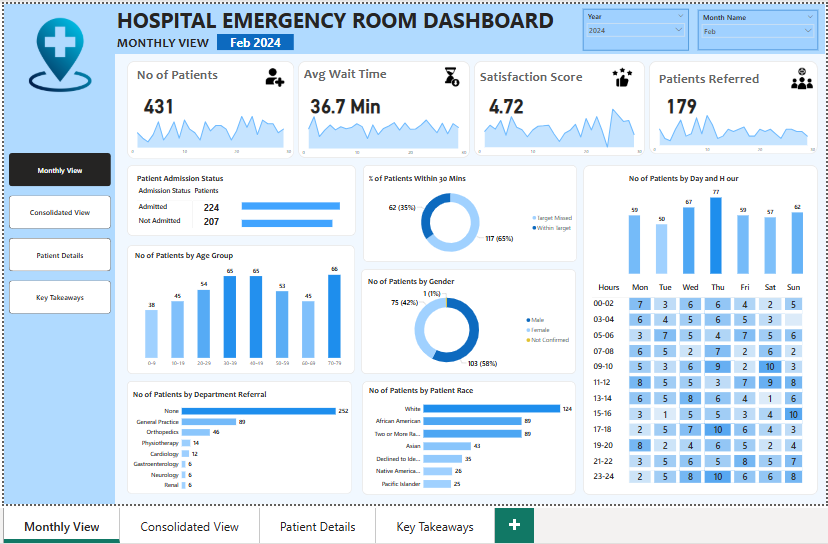

What the dashboard file says about the page in this screenshot:
{"tool":"powerbi","page":{"name":"Monthly View","canvas":[2300,1400],"ordinal":0},"visuals":[{"type":"shape","box":[310.8,0,1988,140],"z":0},{"type":"shape","box":[0,0,310.8,1400],"z":1000},{"type":"textbox","box":[311.6,77.1,295.5,64.2],"z":2000},{"type":"textbox","box":[311.6,0,1243.2,89.9],"z":3000},{"type":"shape","box":[344.4,159.6,467.6,274.4],"z":4000},{"type":"card","fields":{"Values":["Hospital ER_Data.No of Patients"]},"box":[344.4,240.8,182,78.4],"z":5000},{"type":"slicer","fields":{"Values":["Date Table.Year"]},"box":[1622.2,12.8,295.5,115.6],"z":6000},{"type":"slicer","fields":{"Values":["Date Table.Month Name"]},"box":[1943.2,16.8,336,112],"z":7000},{"type":"textbox","box":[366.8,168,274.4,78.4],"z":8000},{"type":"areaChart","fields":{"Category":["Date Table.Date.Variation.Date Hierarchy.Day"],"Y":["Hospital ER_Data.No of Patients"]},"box":[344.4,285.6,467.6,145.6],"z":9000},{"type":"card","fields":{"Values":["Min(Date Table.Month & Year)"]},"box":[597.5,83.5,215.2,45],"z":10000},{"type":"shape","box":[823.2,159.6,481.6,271.6],"z":11000},{"type":"card","fields":{"Values":["Hospital ER_Data.Avg Wait Time"]},"box":[823.2,240.8,266,78.4],"z":12000},{"type":"textbox","box":[834.4,165.2,341.6,81.2],"z":13000},{"type":"areaChart","fields":{"Category":["Date Table.Date.Variation.Date Hierarchy.Day"],"Y":["Avg(Hospital ER_Data.Patient Waittime)"]},"box":[823.2,285.6,478.8,148.4],"z":14000},{"type":"shape","box":[1316,159.6,478.8,266],"z":15000},{"type":"card","fields":{"Values":["Hospital ER_Data.Satisfaction Score"]},"box":[1316,240.8,182,78.4],"z":16000},{"type":"textbox","box":[1327.2,173.6,459.2,75.6],"z":17000},{"type":"areaChart","fields":{"Category":["Date Table.Date.Variation.Date Hierarchy.Day"],"Y":["Hospital ER_Data.Satisfaction Score"]},"box":[1316,280,478.8,151.2],"z":18000},{"type":"shape","box":[1806,159.6,473.2,260.4],"z":19000},{"type":"card","fields":{"Values":["Hospital ER_Data.No of Patients Referred"]},"box":[1806,240.8,182,78.4],"z":20000},{"type":"textbox","box":[1828.4,179.2,406,64.4],"z":21000},{"type":"areaChart","fields":{"Category":["Date Table.Date.Variation.Date Hierarchy.Day"],"Y":["Hospital ER_Data.No of Patients Referred"]},"box":[1806,285.6,473.2,140],"z":22000},{"type":"shape","box":[344.4,450.8,641.2,198.8],"z":23000},{"type":"pivotTable","title":"Patient Admission Status","fields":{"Rows":["Hospital ER_Data.Admission Status"],"Values":["Hospital ER_Data.No of Patients"]},"box":[366.8,473.2,607.6,170.8],"z":24000},{"type":"barChart","fields":{"Category":["Hospital ER_Data.Admission Status"],"Y":["Hospital ER_Data.No of Patients"]},"box":[660.8,518,313.6,140],"z":25000},{"type":"shape","box":[344.4,674.8,638.4,361.2],"z":26000},{"type":"clusteredColumnChart","fields":{"Category":["Hospital ER_Data.Age Group"],"Y":["Hospital ER_Data.No of Patients"]},"box":[360.6,687.9,618.2,336.4],"z":27000},{"type":"shape","box":[344.4,1055.6,630,316.4],"z":28000},{"type":"clusteredBarChart","fields":{"Category":["Hospital ER_Data.Department Referral"],"Y":["Hospital ER_Data.No of Patients"]},"box":[355.6,1078,616,296.8],"z":29000},{"type":"shape","box":[1005.2,450.8,599.2,271.6],"z":30000},{"type":"donutChart","title":"% of Patients Within 30 Mins","fields":{"Category":["Hospital ER_Data.Waittime Status"],"Y":["Hospital ER_Data.No of Patients Referred"]},"box":[1016.4,473.2,588,249.2],"z":31000},{"type":"shape","box":[999.6,742,602,294],"z":32000},{"type":"donutChart","title":"No of Patients by Gender","fields":{"Category":["Hospital ER_Data.Patient Gender"],"Y":["Hospital ER_Data.No of Patients Referred"]},"box":[1013.6,761.6,582.4,274.4],"z":33000},{"type":"shape","box":[1002.4,1055.6,599.2,319.2],"z":34000},{"type":"clusteredBarChart","fields":{"Category":["Hospital ER_Data.Patient Race"],"Y":["Hospital ER_Data.No of Patients"]},"box":[1016.4,1066.8,579.6,308],"z":35000},{"type":"shape","box":[1621.2,450.8,658,924],"z":36000},{"type":"pivotTable","fields":{"Columns":["Date Table.Day Name"],"Values":["Hospital ER_Data.No of Patients"],"Rows":["Hospital ER_Data.Waittime Interval"]},"box":[1641.5,774.2,603.9,587.8],"z":37000},{"type":"columnChart","title":"No of Patients by Day and H our","fields":{"Category":["Date Table.Day Name"],"Y":["Hospital ER_Data.No of Patients"]},"box":[1744.4,473.2,501.2,288.4],"z":38000},{"type":"image","box":[25.2,33.6,263.2,218.4],"z":39000},{"type":"pageNavigator","box":[14,417.2,285.6,450.8],"z":40000},{"type":"image","box":[1215.2,170.8,78.4,67.2],"z":41000},{"type":"image","box":[1694,168,75.6,72.8],"z":42000},{"type":"image","box":[728,170.8,61.6,70],"z":43000},{"type":"image","box":[2189.6,173.6,89.6,70],"z":44000}]}

Visuals, with their boxes on the page's 2300x1400 design canvas (x1, y1, x2, y2). These are canvas units, not pixel positions in the 828x544 screenshot, which may show the page scaled, cropped or inside an application window:
shape: Rect(311, 0, 2299, 140)
shape: Rect(0, 0, 311, 1400)
textbox: Rect(312, 77, 607, 141)
textbox: Rect(312, 0, 1555, 90)
shape: Rect(344, 160, 812, 434)
card - Hospital ER_Data.No of Patients: Rect(344, 241, 526, 319)
slicer - Date Table.Year: Rect(1622, 13, 1918, 128)
slicer - Date Table.Month Name: Rect(1943, 17, 2279, 129)
textbox: Rect(367, 168, 641, 246)
areaChart - Date Table.Date.Variation.Date Hierarchy.Day x Hospital ER_Data.No of Patients: Rect(344, 286, 812, 431)
card - Min(Date Table.Month & Year): Rect(598, 84, 813, 128)
shape: Rect(823, 160, 1305, 431)
card - Hospital ER_Data.Avg Wait Time: Rect(823, 241, 1089, 319)
textbox: Rect(834, 165, 1176, 246)
areaChart - Date Table.Date.Variation.Date Hierarchy.Day x Avg(Hospital ER_Data.Patient Waittime): Rect(823, 286, 1302, 434)
shape: Rect(1316, 160, 1795, 426)
card - Hospital ER_Data.Satisfaction Score: Rect(1316, 241, 1498, 319)
textbox: Rect(1327, 174, 1786, 249)
areaChart - Date Table.Date.Variation.Date Hierarchy.Day x Hospital ER_Data.Satisfaction Score: Rect(1316, 280, 1795, 431)
shape: Rect(1806, 160, 2279, 420)
card - Hospital ER_Data.No of Patients Referred: Rect(1806, 241, 1988, 319)
textbox: Rect(1828, 179, 2234, 244)
areaChart - Date Table.Date.Variation.Date Hierarchy.Day x Hospital ER_Data.No of Patients Referred: Rect(1806, 286, 2279, 426)
shape: Rect(344, 451, 986, 650)
"Patient Admission Status" pivotTable: Rect(367, 473, 974, 644)
barChart - Hospital ER_Data.Admission Status x Hospital ER_Data.No of Patients: Rect(661, 518, 974, 658)
shape: Rect(344, 675, 983, 1036)
clusteredColumnChart - Hospital ER_Data.Age Group x Hospital ER_Data.No of Patients: Rect(361, 688, 979, 1024)
shape: Rect(344, 1056, 974, 1372)
clusteredBarChart - Hospital ER_Data.Department Referral x Hospital ER_Data.No of Patients: Rect(356, 1078, 972, 1375)
shape: Rect(1005, 451, 1604, 722)
"% of Patients Within 30 Mins" donutChart: Rect(1016, 473, 1604, 722)
shape: Rect(1000, 742, 1602, 1036)
"No of Patients by Gender" donutChart: Rect(1014, 762, 1596, 1036)
shape: Rect(1002, 1056, 1602, 1375)
clusteredBarChart - Hospital ER_Data.Patient Race x Hospital ER_Data.No of Patients: Rect(1016, 1067, 1596, 1375)
shape: Rect(1621, 451, 2279, 1375)
pivotTable - Date Table.Day Name x Hospital ER_Data.No of Patients: Rect(1642, 774, 2245, 1362)
"No of Patients by Day and H our" columnChart: Rect(1744, 473, 2246, 762)
image: Rect(25, 34, 288, 252)
pageNavigator: Rect(14, 417, 300, 868)
image: Rect(1215, 171, 1294, 238)
image: Rect(1694, 168, 1770, 241)
image: Rect(728, 171, 790, 241)
image: Rect(2190, 174, 2279, 244)
